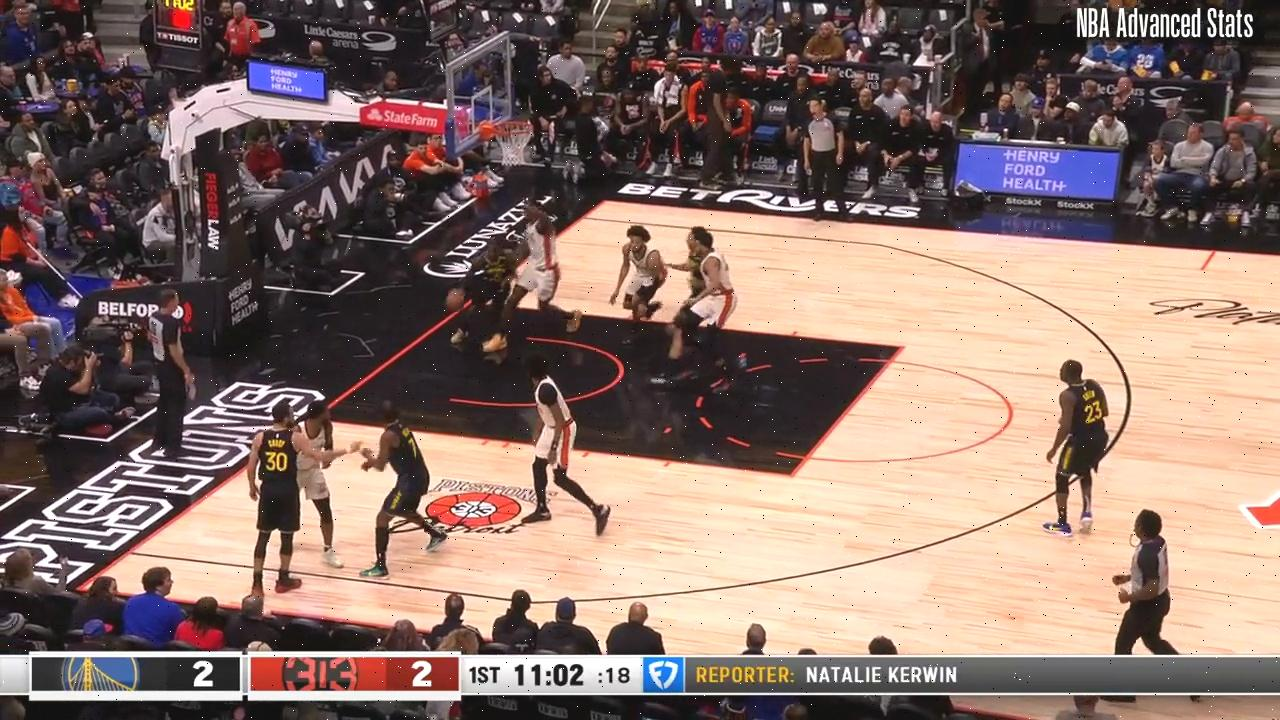basketball: (444, 287, 467, 309)
